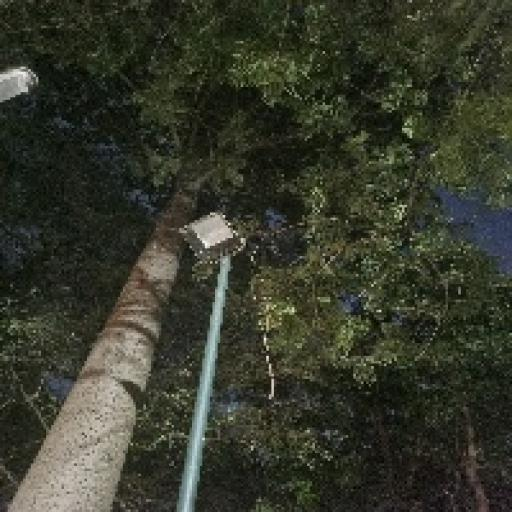Not Working: (164, 203, 248, 276)
